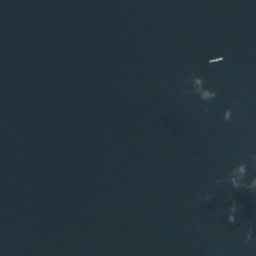Ship: (208, 56, 224, 65)
